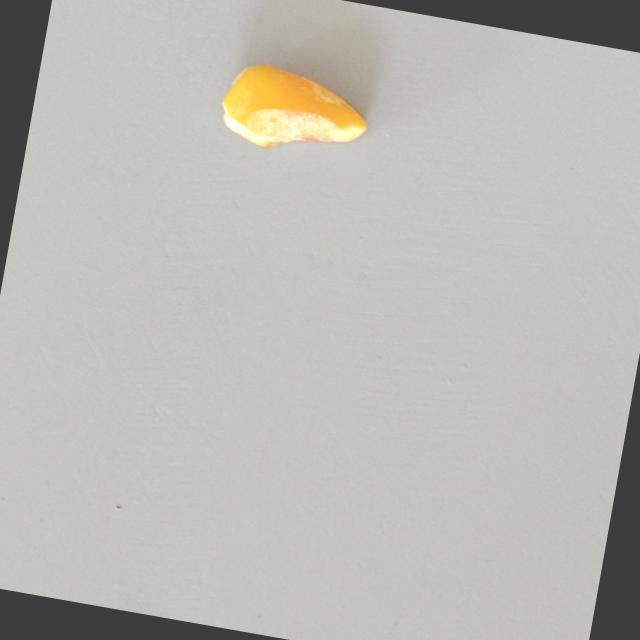dañado: (205, 46, 382, 167)
